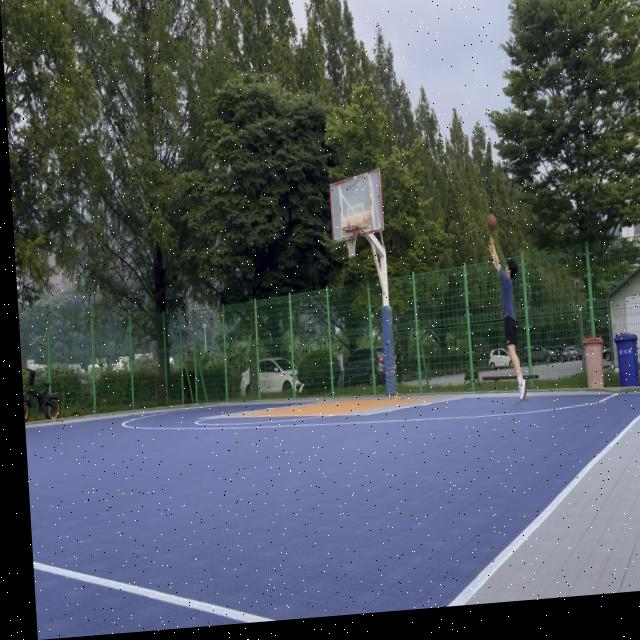basketball: (486, 212, 498, 232)
hoop: (341, 225, 360, 260)
